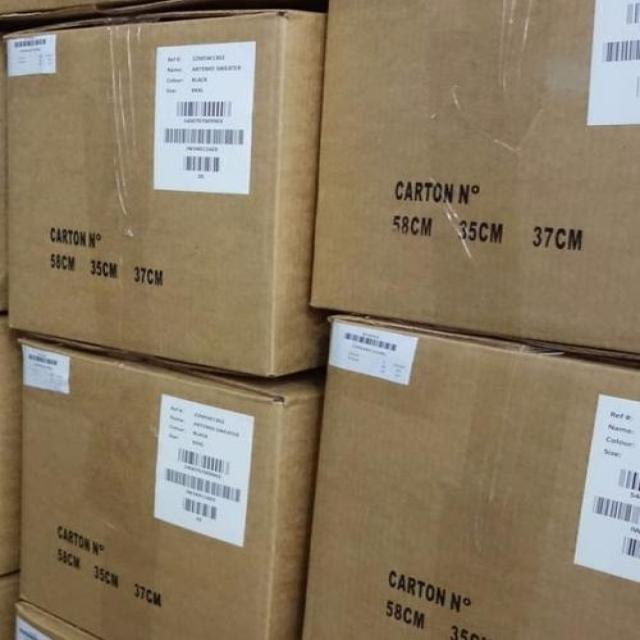box: (4, 10, 330, 385), (310, 1, 639, 361), (301, 309, 639, 639), (20, 341, 326, 638), (0, 574, 99, 639)
